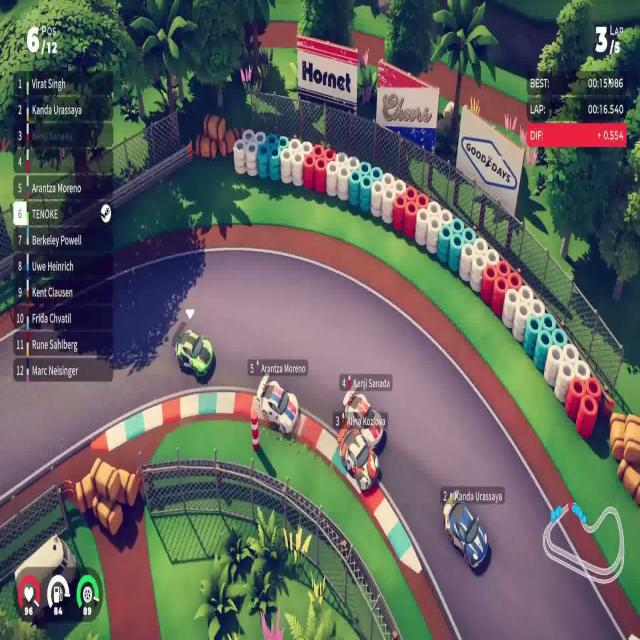car: (442, 488, 489, 570), (336, 424, 382, 501), (256, 372, 300, 437), (343, 387, 385, 449), (174, 328, 214, 379)
